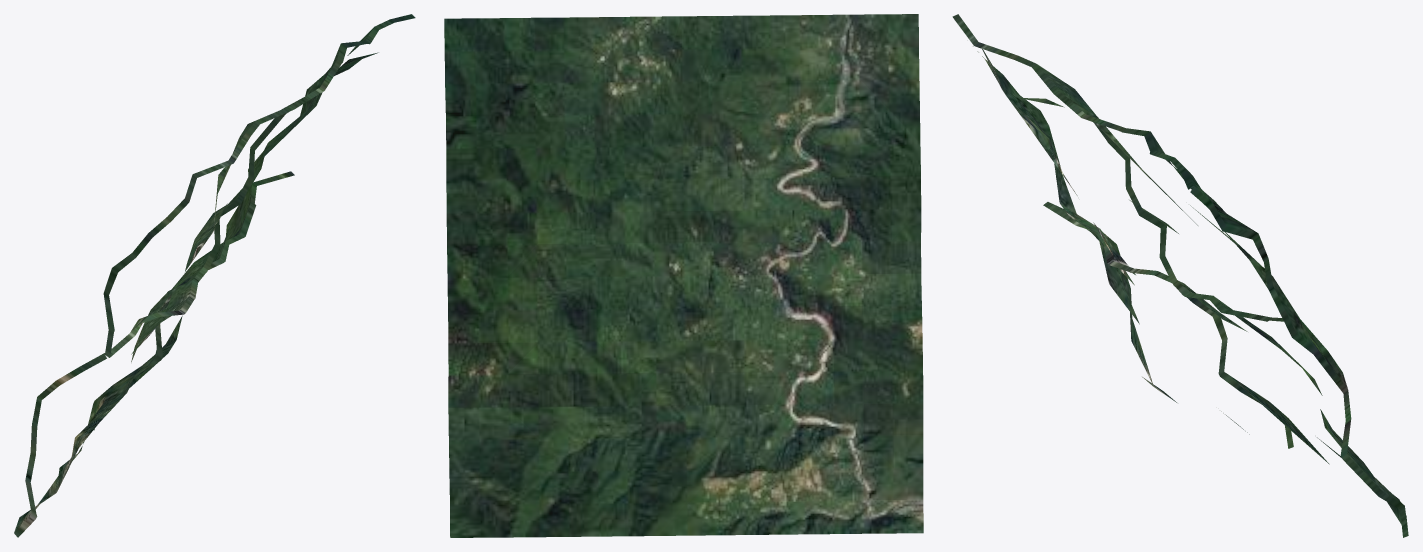
The picture shows the model from 3 angles, left to right: view 1: azimuth 30°, elevation 25°; view 2: azimuth 150°, elevation 25°; view 3: azimuth 270°, elevation 25°; orthographic projection. The views are drawn at different scales.
Size of the model in its own units: 9868 by 9069 by 8735.
1 material, 1 textured.
